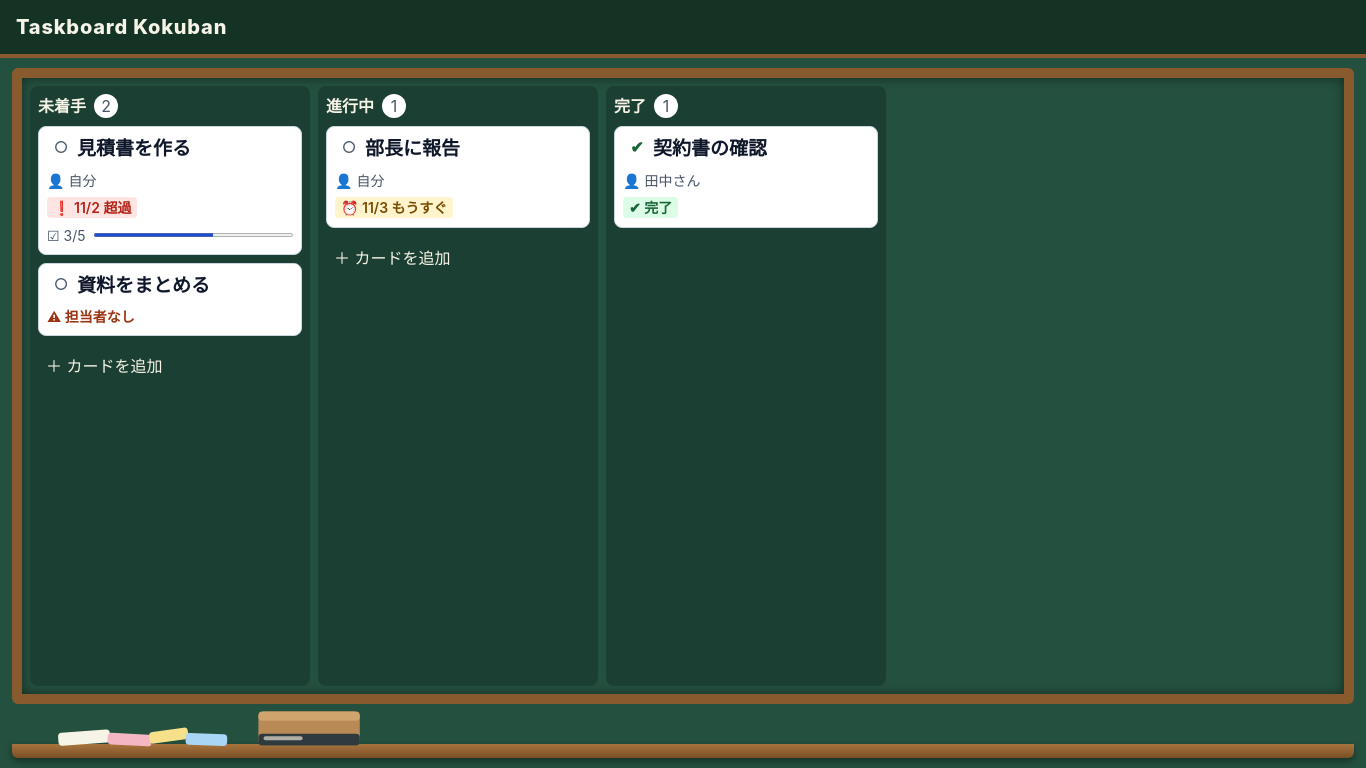
Test case: BoardPage: 完了マーク(○/✔) › ○ を押すと、完了にして、カードが「完了」のいちばん上へ移る。編集ダイアログは開かない
The width and height of the screenshot is (1366, 768).
Click the button named "完了にする: 部長に報告" at (349, 147), box [327,125,371,169]
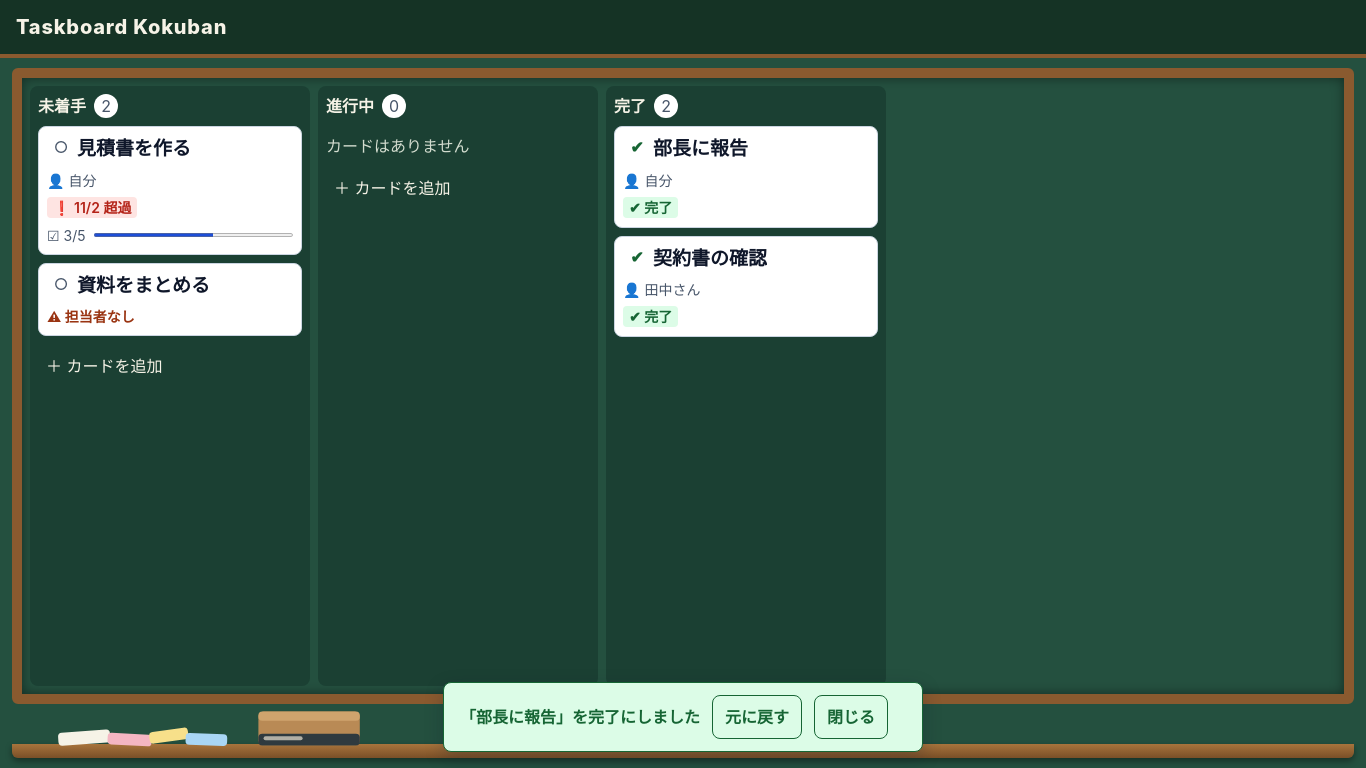
expect the headings read "部長に報告", "契約書の確認", in this order: met, box [653,135,748,164]; [653,244,767,273]
expect the button named "未完了に戻す: 部長に報告" is shown: met, box [615,125,659,169]
